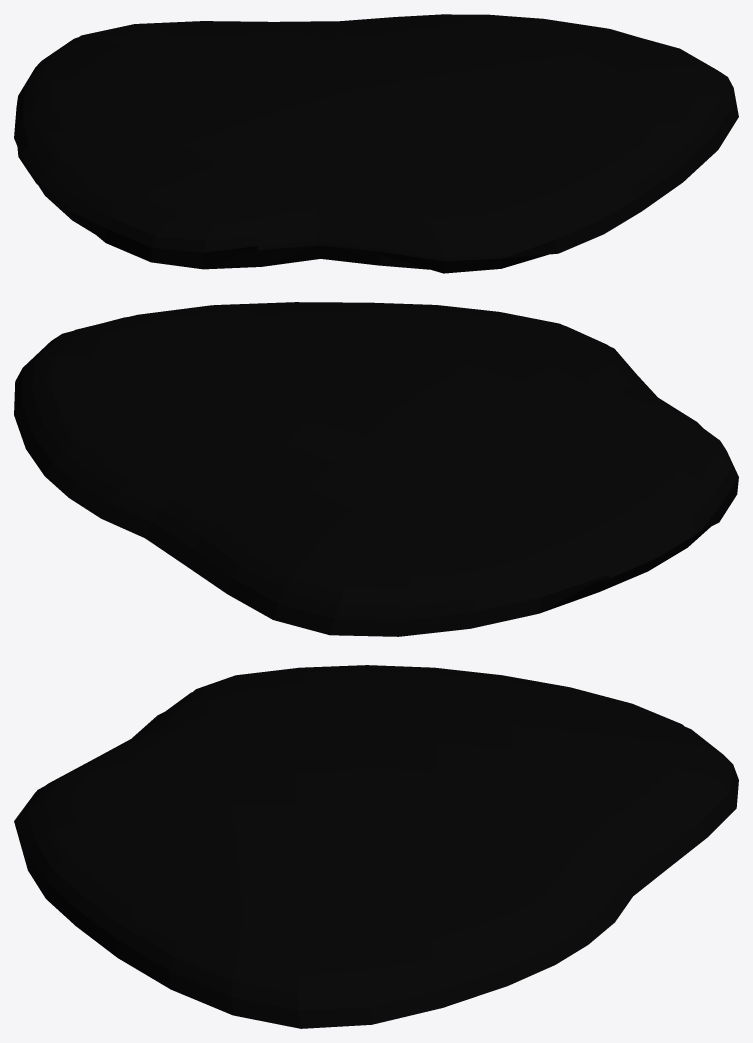
Rendered from oilfluid.glb.
The picture shows the model from 3 angles, top to bottom: view 1: azimuth 30°, elevation 25°; view 2: azimuth 150°, elevation 25°; view 3: azimuth 270°, elevation 25°; orthographic projection. The views are drawn at different scales.
Visible parts, largest first — view 1: PP_Oil_stain; view 2: PP_Oil_stain; view 3: PP_Oil_stain.
Part boxes in pixels (x1,y1,x2,y2): PP_Oil_stain: [14, 14, 738, 273]; PP_Oil_stain: [14, 302, 738, 636]; PP_Oil_stain: [14, 665, 738, 1028].
Size of the model in its own units: 1.38 by 0.1314 by 1.24.
1 material, 1 textured.
